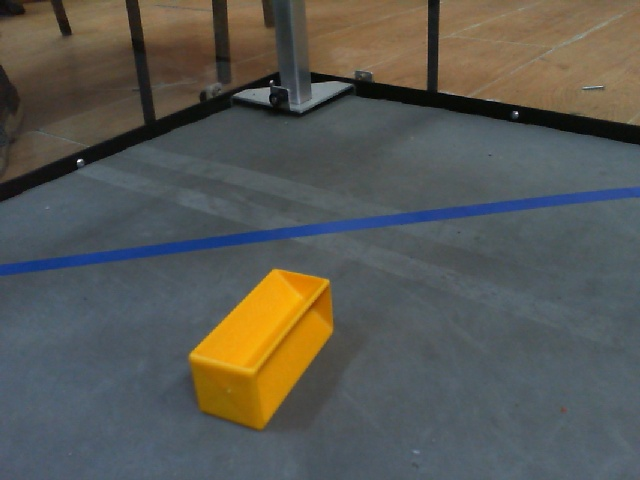YellowSample: (184, 267, 348, 434)
